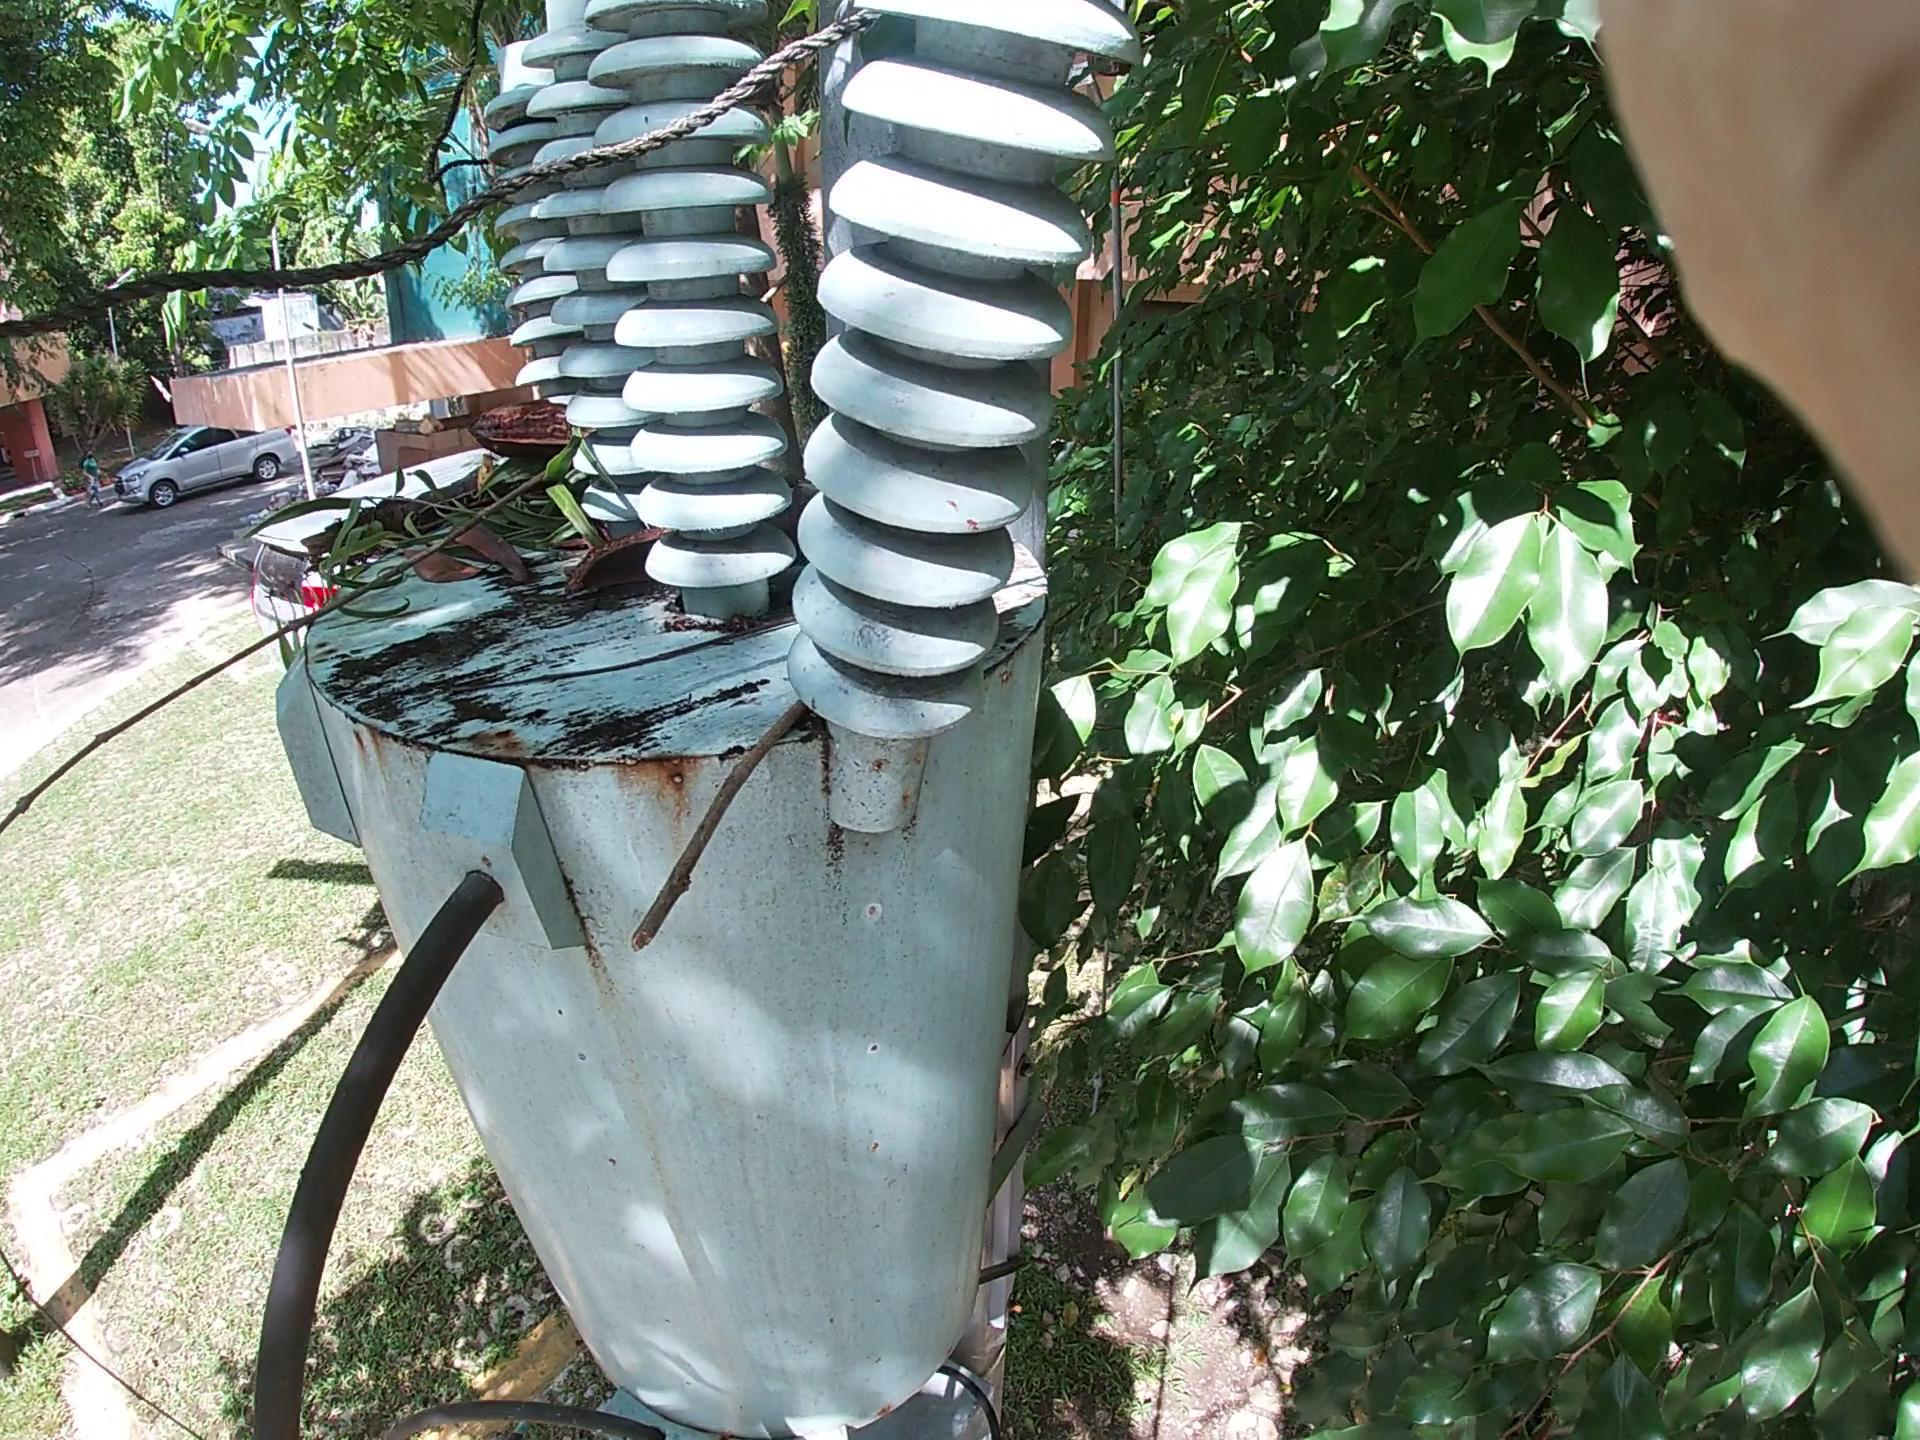branch with leaves: (243, 171, 821, 655)
leaf: (417, 489, 525, 601)
tree branch: (112, 342, 721, 797), (668, 681, 828, 939)
